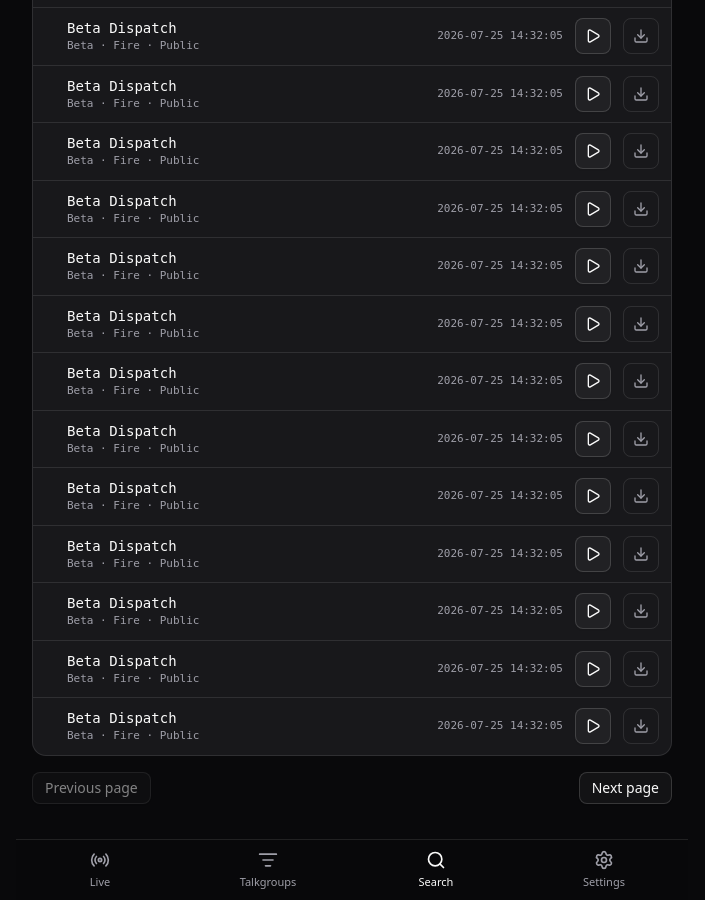
Test: SearchScreen › pages through results and reports where it is
(page scrolled)
Expected: the button "Previous page" is disabled, [32,772,151,804]
What coordinates should you click on to do the following:
click the button "Next page"
I would click on:
 (625, 788)
Its box is [579,772,672,804].
(page scrolled)
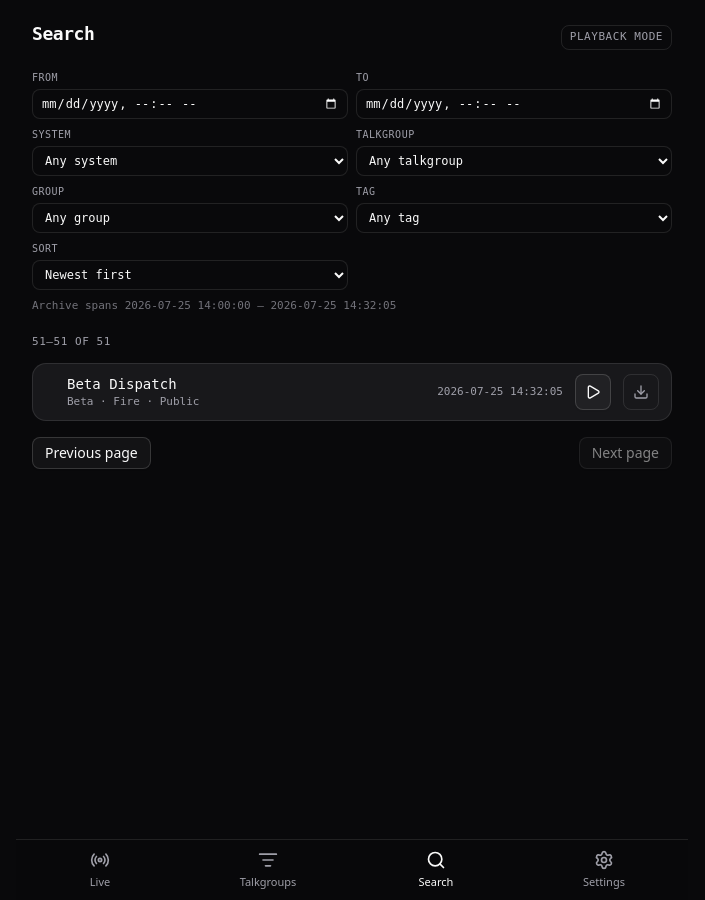
Expected: the text "51–51 of 51" is shown, [32,334,111,351]
Expected: the button "Next page" is disabled, [579,437,672,469]
Expected: the button "Previous page" is enabled
// Going back is served from the RTK Query cache — no second round trip.
What coordinates should you click on to do the following:
click the button "Previous page"
I would click on:
 (91, 453)
Its box is [32,437,151,469].
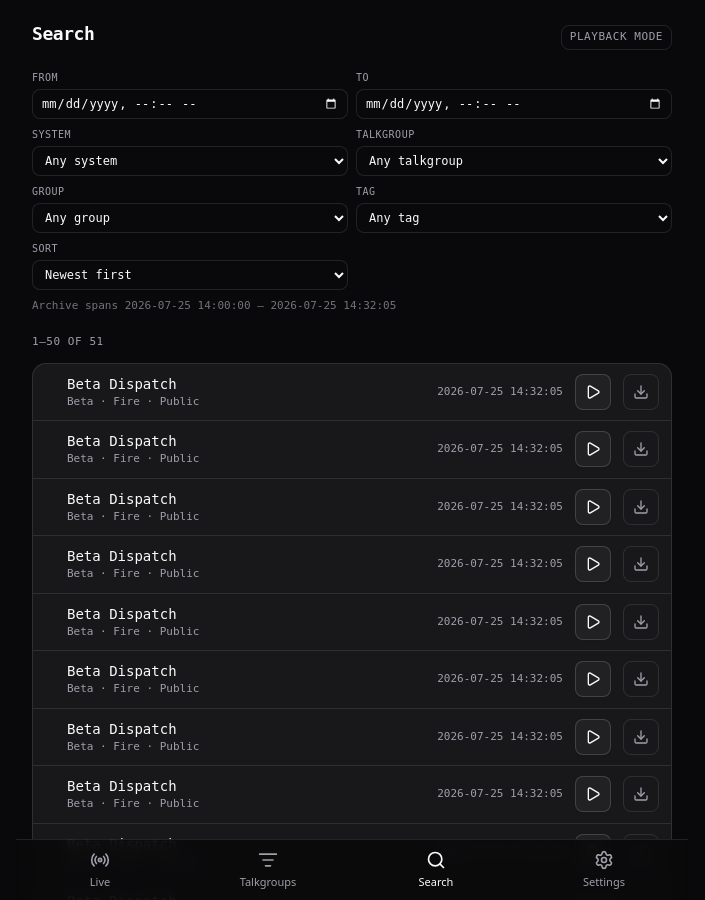
Expected: the text "1–50 of 51" is shown, [32,334,104,351]
